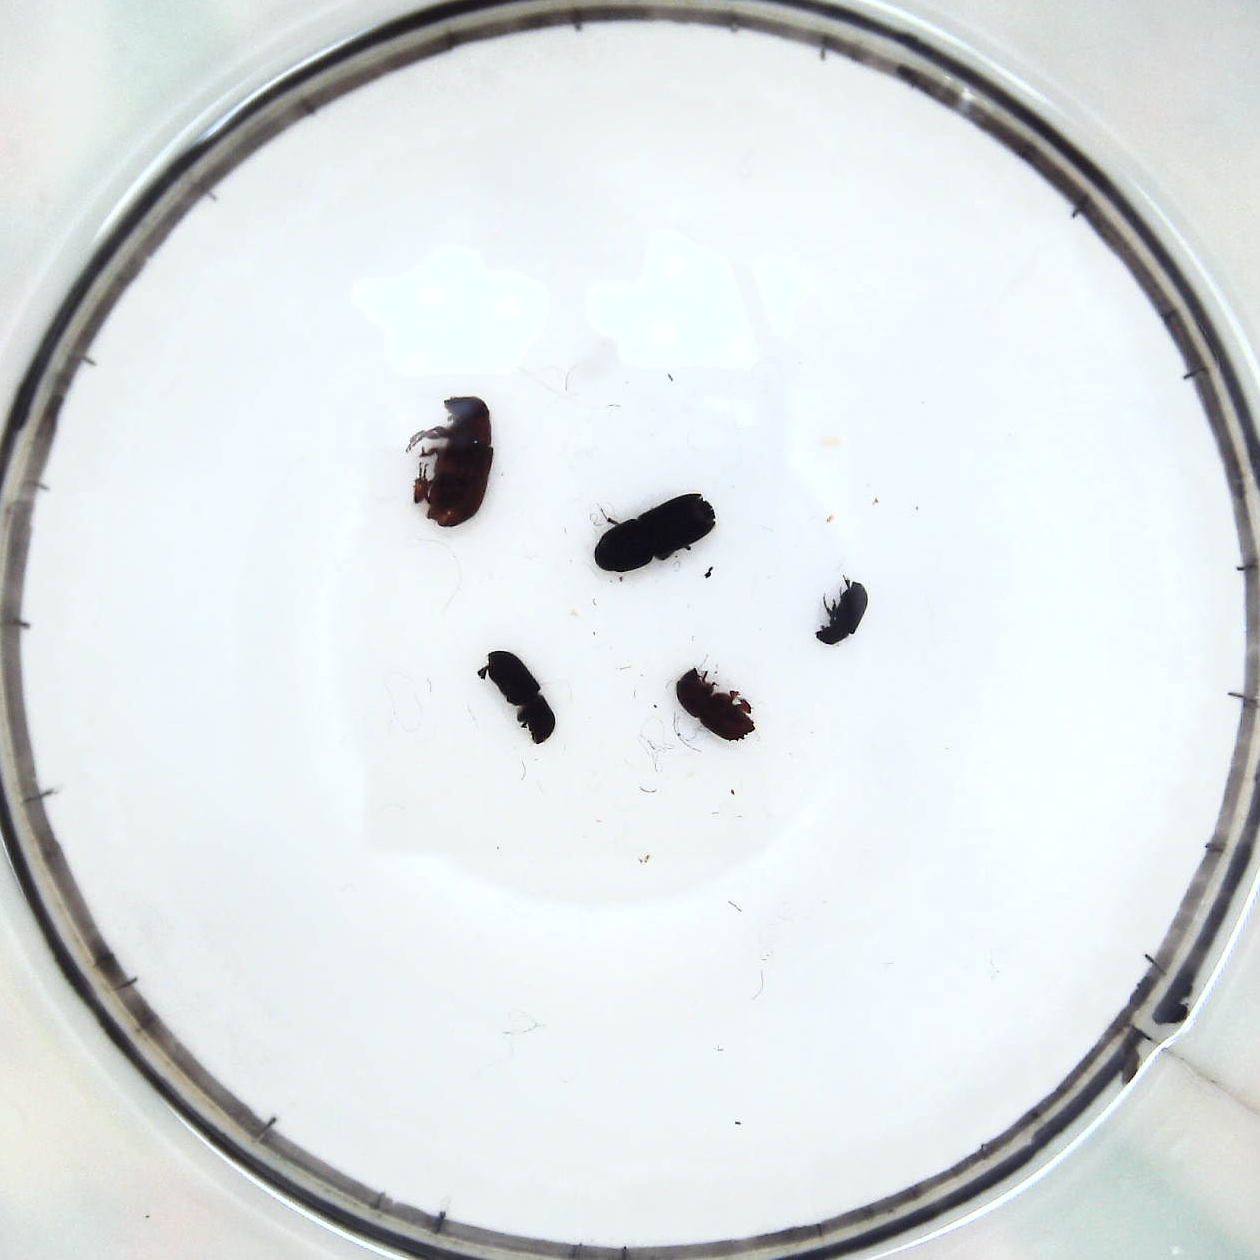Boerner: (587, 488, 715, 576)
Leconte: (393, 391, 488, 528)
Linnaeus: (675, 663, 760, 743)
armandi: (483, 647, 557, 749)
coleoptera: (809, 577, 869, 646)
